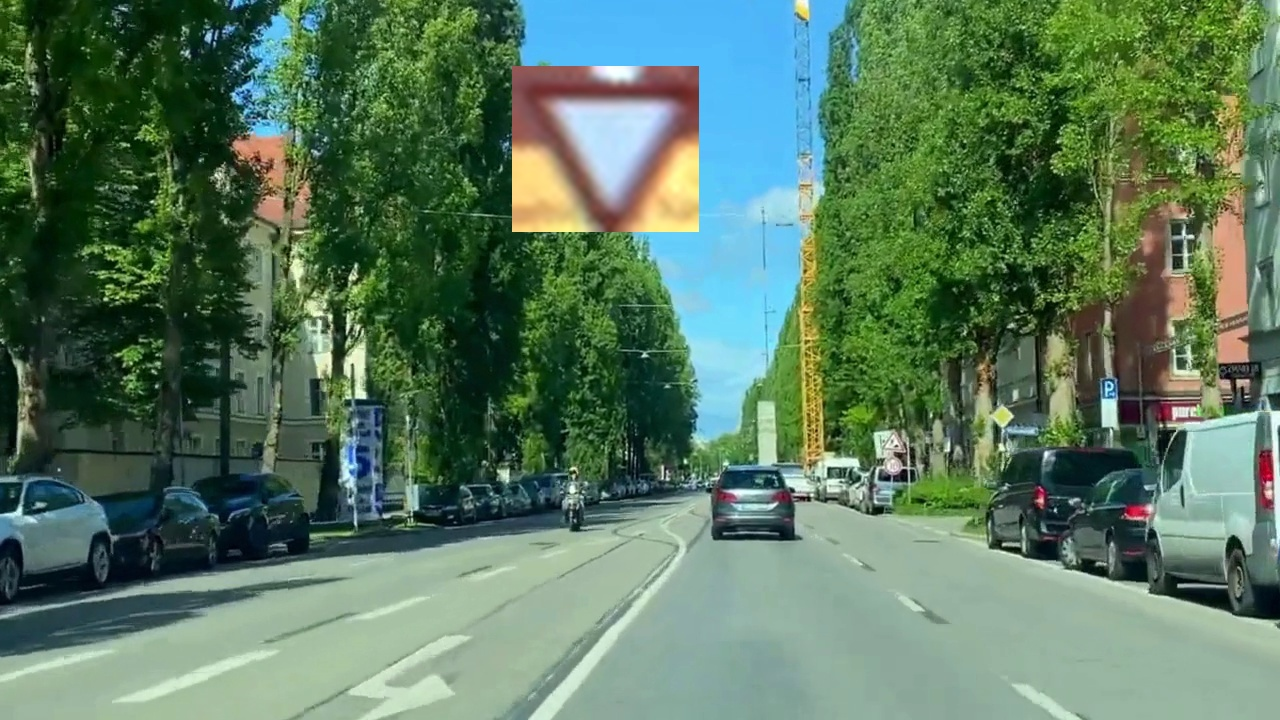Yield: (512, 66, 699, 232)
